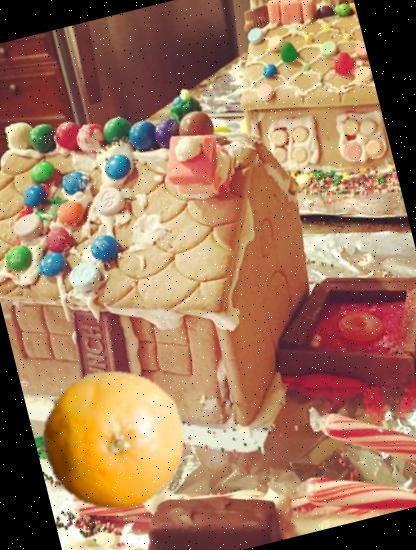Grapefruit: (24, 350, 202, 528)
